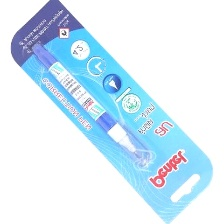book: (9, 0, 217, 224)
correction_fluid: (29, 41, 154, 168)
